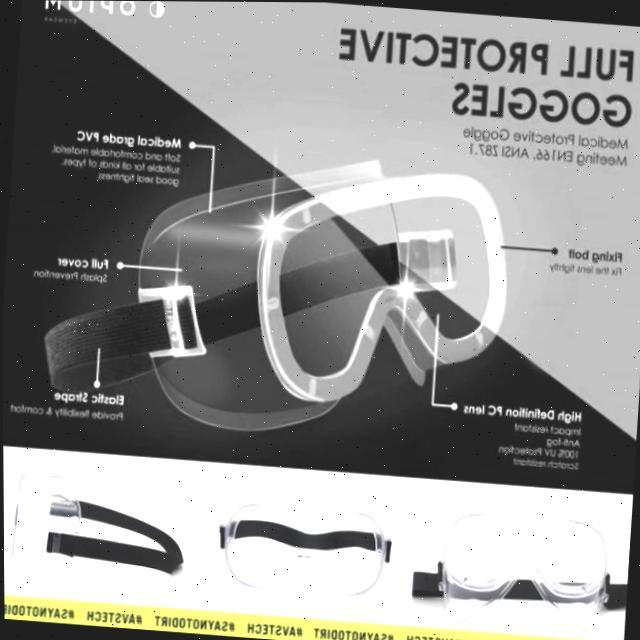goggles_on: (35, 153, 514, 444), (407, 504, 632, 619), (2, 462, 198, 581), (207, 500, 406, 603)
